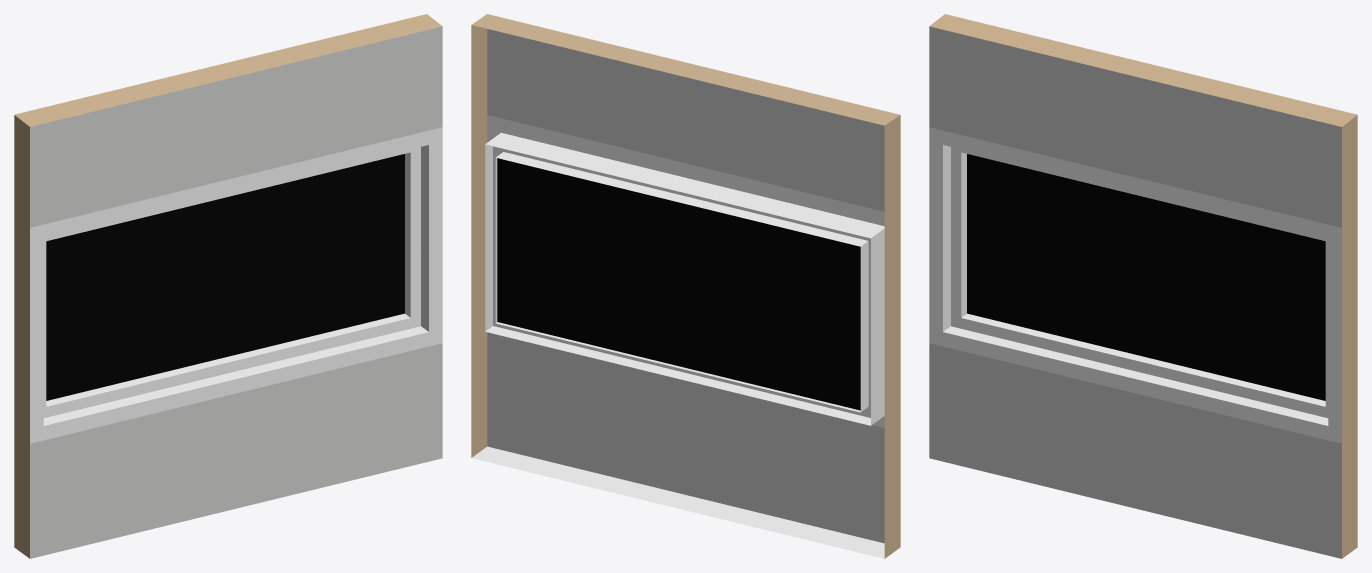
File: buildings_house-wall-window-large-3x3m.fbx
3 views of the same model, side by side, from view 1: azimuth 30°, elevation 25°; view 2: azimuth 150°, elevation 25°; view 3: azimuth 330°, elevation 25° (orthographic).
Visible parts, largest first — view 1: buildings_house_wall_window_large_3x3m; view 2: buildings_house_wall_window_large_3x3m; view 3: buildings_house_wall_window_large_3x3m.
Part boxes in pixels (box(x1,y1,x2,y2)): buildings_house_wall_window_large_3x3m: box(14, 14, 442, 558); buildings_house_wall_window_large_3x3m: box(471, 14, 900, 558); buildings_house_wall_window_large_3x3m: box(929, 14, 1357, 558).
Bounding box in the file's own units: 200 × 200 × 13.31.
4 materials, 1 textured.
